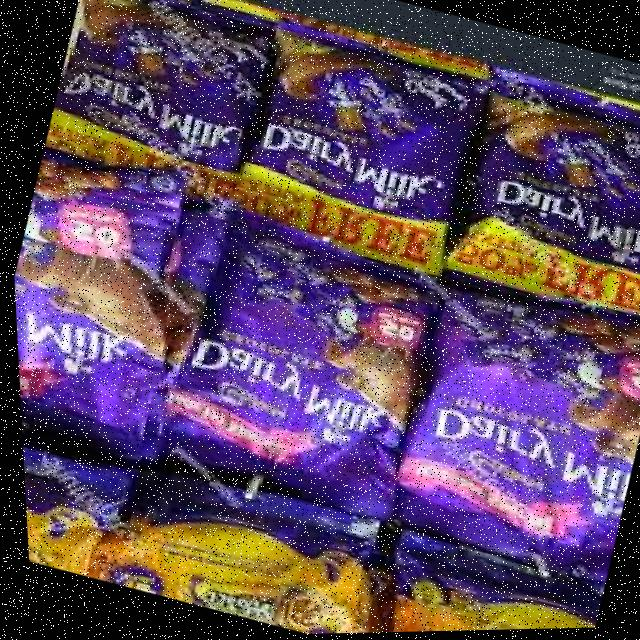cadbury: (132, 214, 445, 526), (374, 276, 640, 586), (218, 10, 490, 272), (7, 162, 207, 468), (430, 77, 640, 339), (39, 0, 290, 215)
